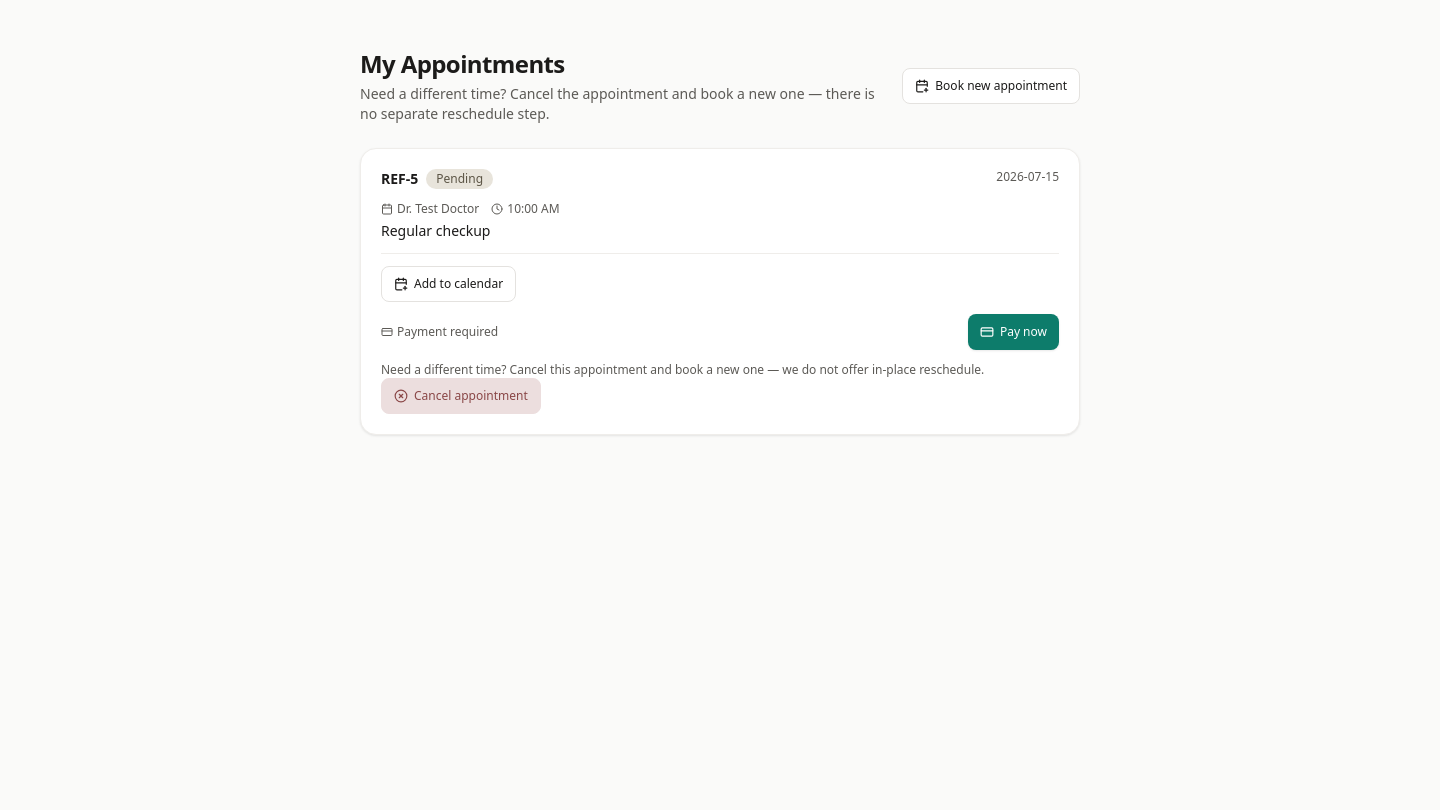
Test case: MyAppointmentsPage › cancel modal › rejects reason shorter than 10 characters
The image size is (1440, 810).
Expected: the text "REF-5" is shown, [381, 169, 418, 189]
Click the button "Cancel appointment" at point(461, 396), box [381, 378, 541, 414]
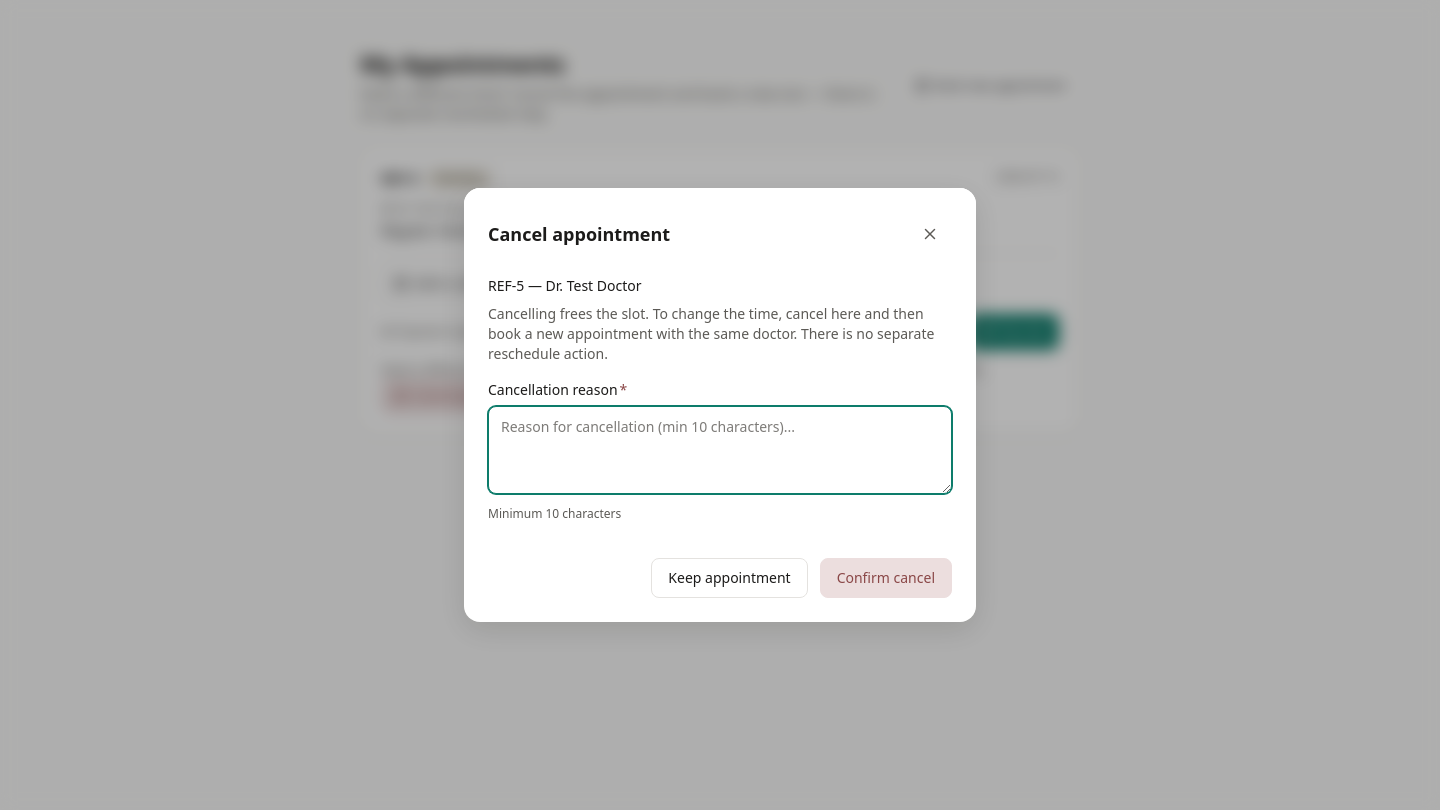
Type "Short" into the text box with placeholder "Reason for cancellation (min 10 characters)..." at point(720, 450), box [488, 406, 952, 494]
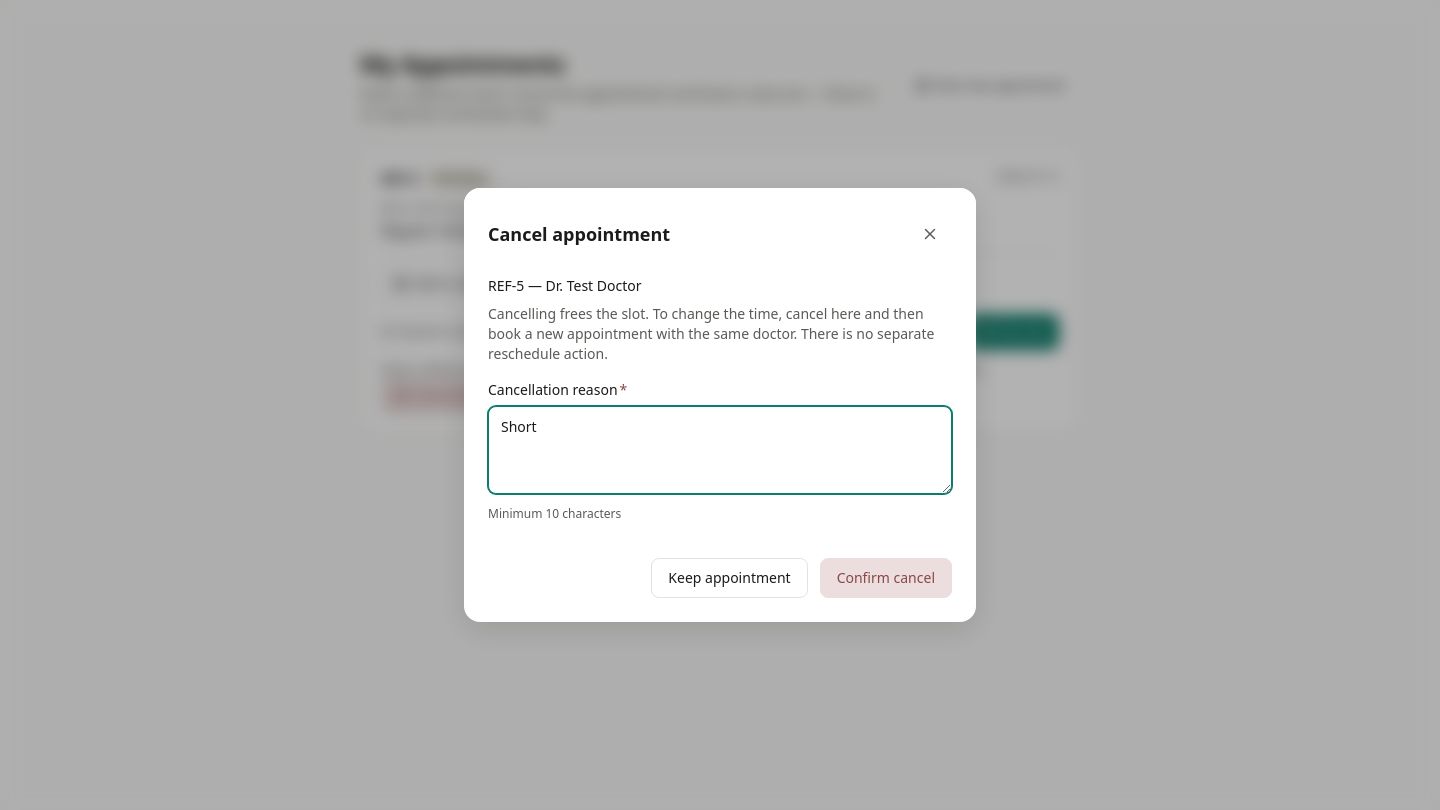
Click the button "Confirm cancel" at point(886, 578), box [820, 558, 952, 598]
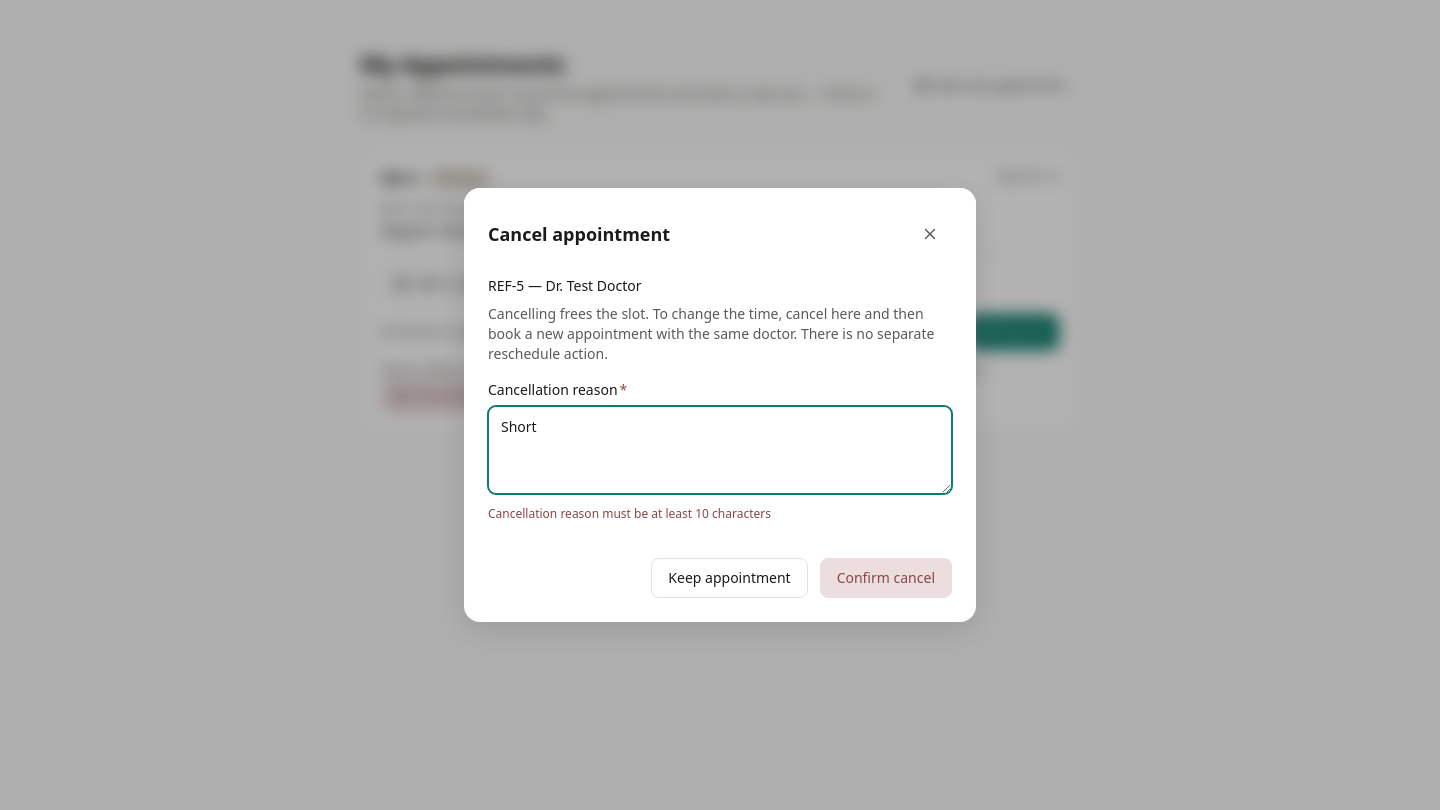
Expected: the text "Cancellation reason must be at least 10 characters" is shown, [488, 505, 771, 522]
